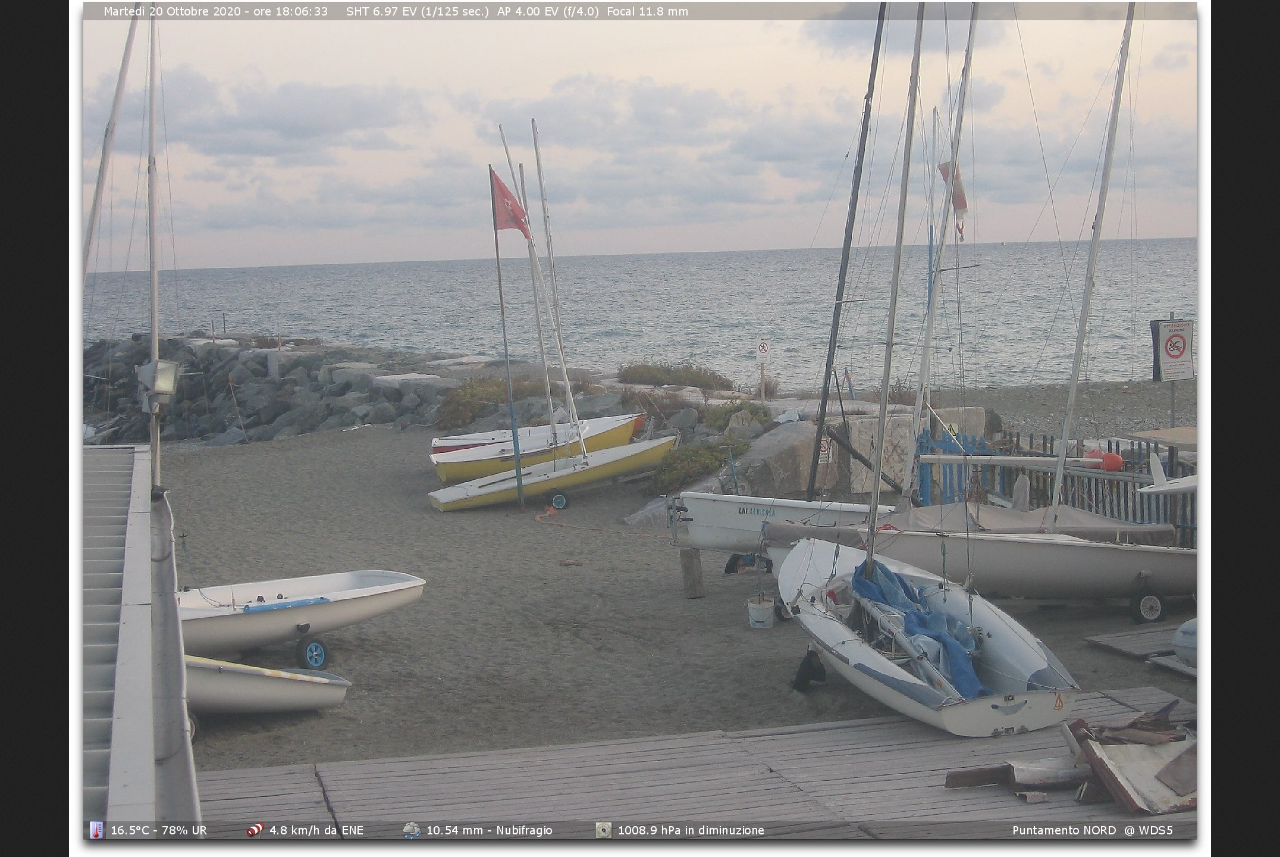maybe: (482, 169, 537, 244)
